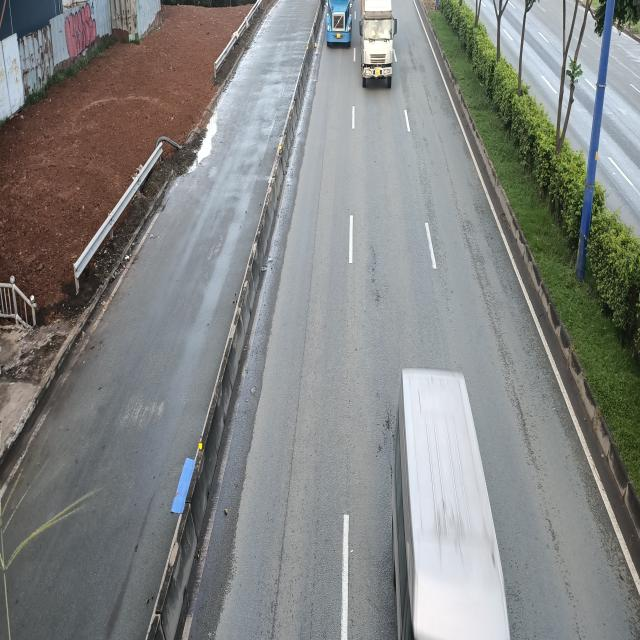container: (324, 0, 355, 47)
truck: (356, 0, 395, 86)
